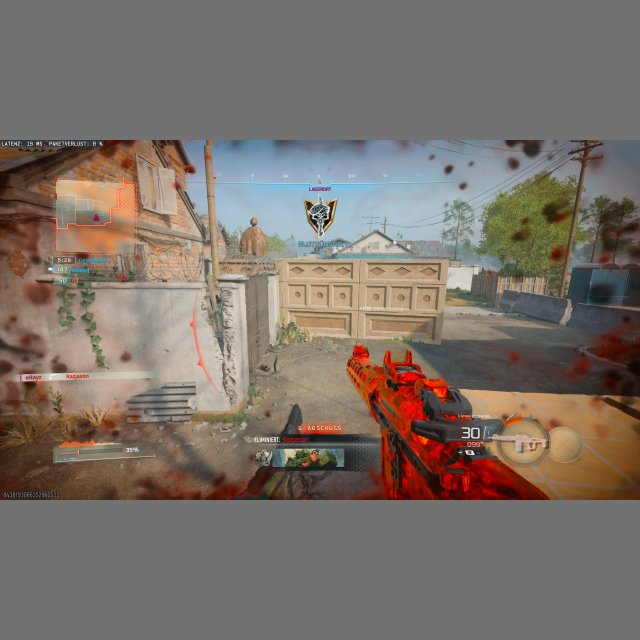player: (47, 387, 64, 415)
